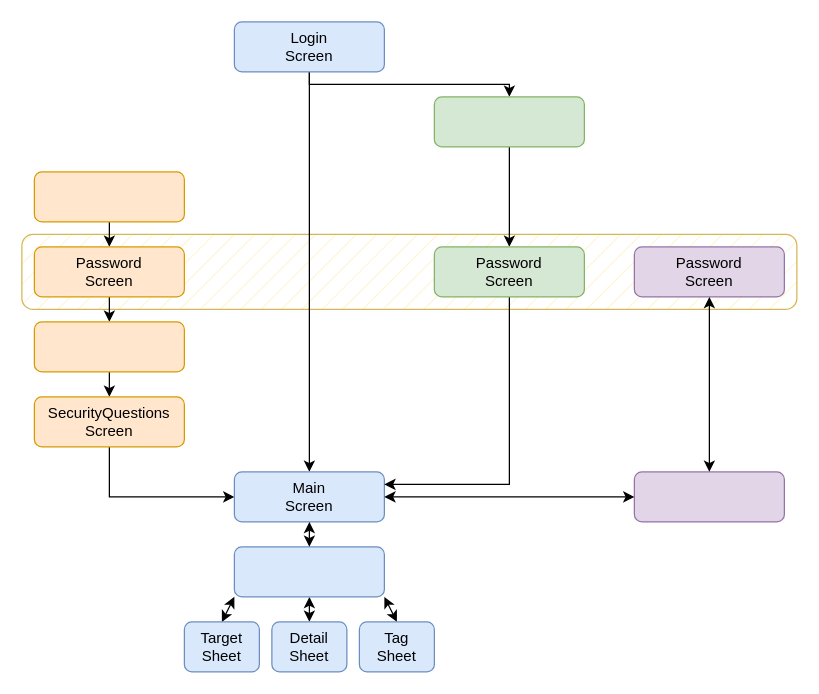
This 819x694 diagram has some shape labels left out. The box of each missing label's shape, as (x1, y1, x2, y2) in pixels:
Account Screen: (233, 546, 384, 597)
Biometrics Screen: (33, 321, 184, 372)
Onboarding Screen: (33, 171, 184, 222)
Recovery Screen: (433, 96, 584, 147)
Settings Screen: (633, 471, 784, 522)
